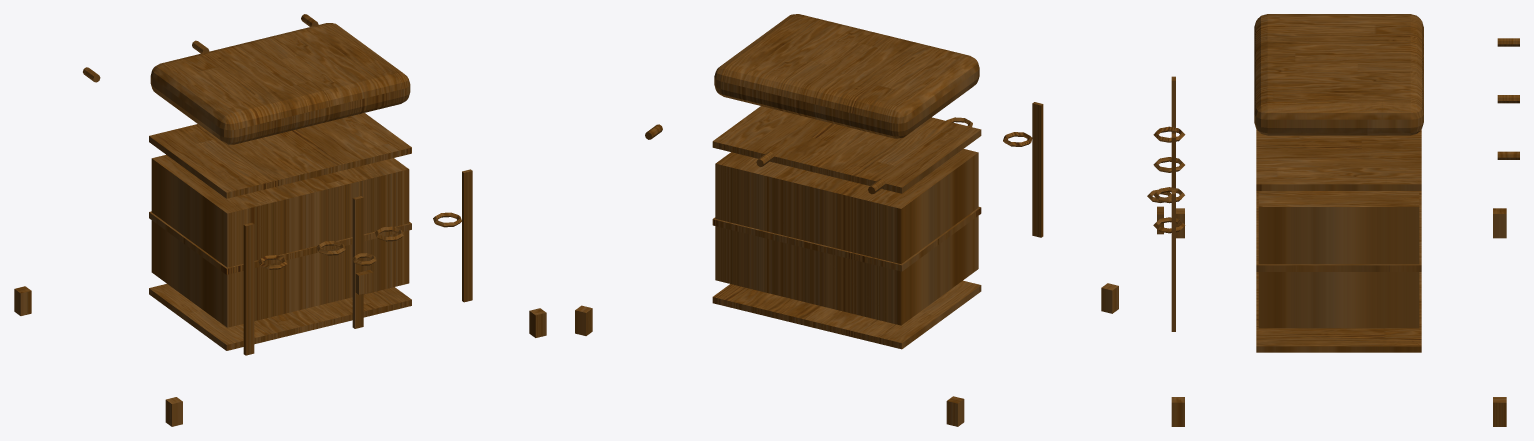
The model's file is locked_chest.glb.
The picture shows the model from 3 angles, left to right: view 1: azimuth 30°, elevation 25°; view 2: azimuth 150°, elevation 25°; view 3: azimuth 270°, elevation 25°; orthographic projection. The views are drawn at different scales.
Parts seen in each view (by area): view 1: locked_chest; view 2: locked_chest; view 3: locked_chest.
Boxes of the visible parts, x1,y1,x2,y2 form: locked_chest: (14,14,546,426); locked_chest: (575,14,1118,426); locked_chest: (1147,14,1519,426).
Size of the model in its own units: 0.515 by 0.335 by 0.4175.
1 material, 1 textured.
